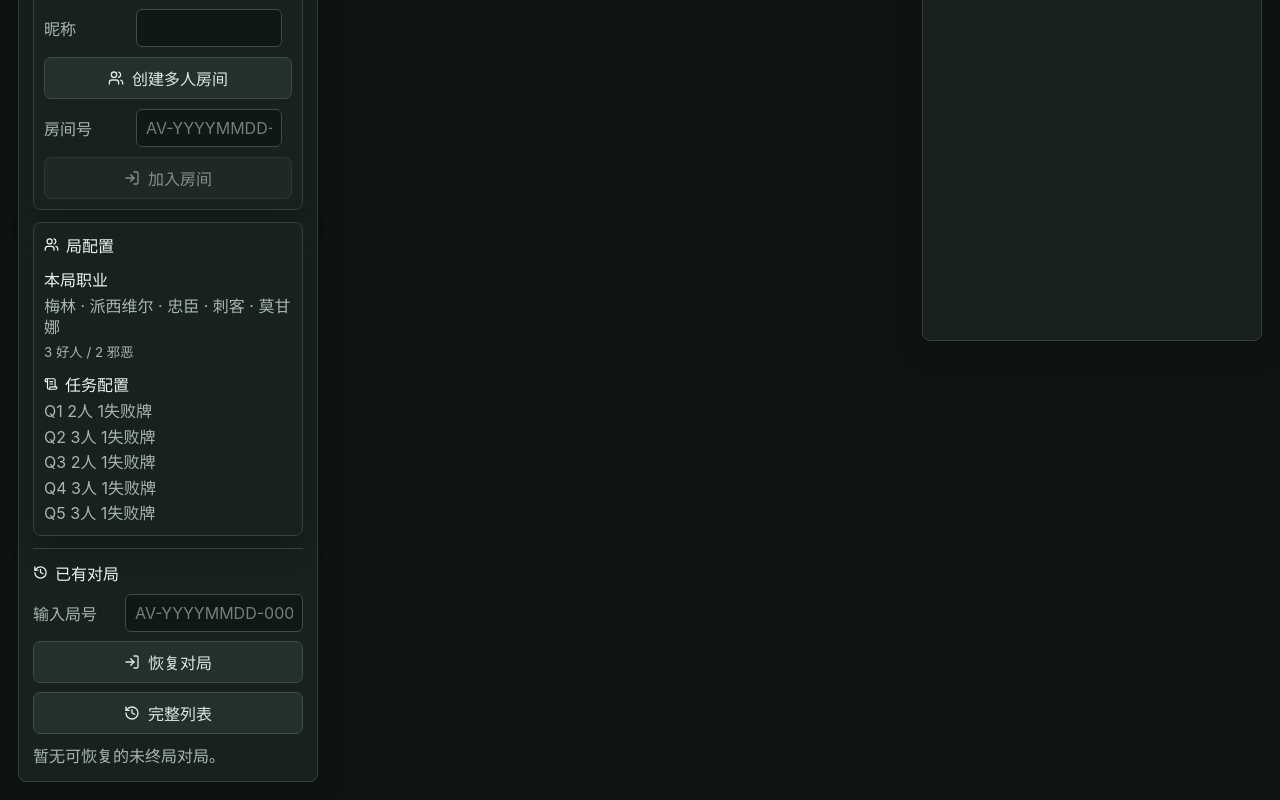
Test: Avalon app › does not restore a terminal game by manual id
The width and height of the screenshot is (1280, 800).
(page scrolled)
Type "AV-20260701-DONE" into the field labelled "输入局号" at coordinates (214, 613), box [125,594,303,632]
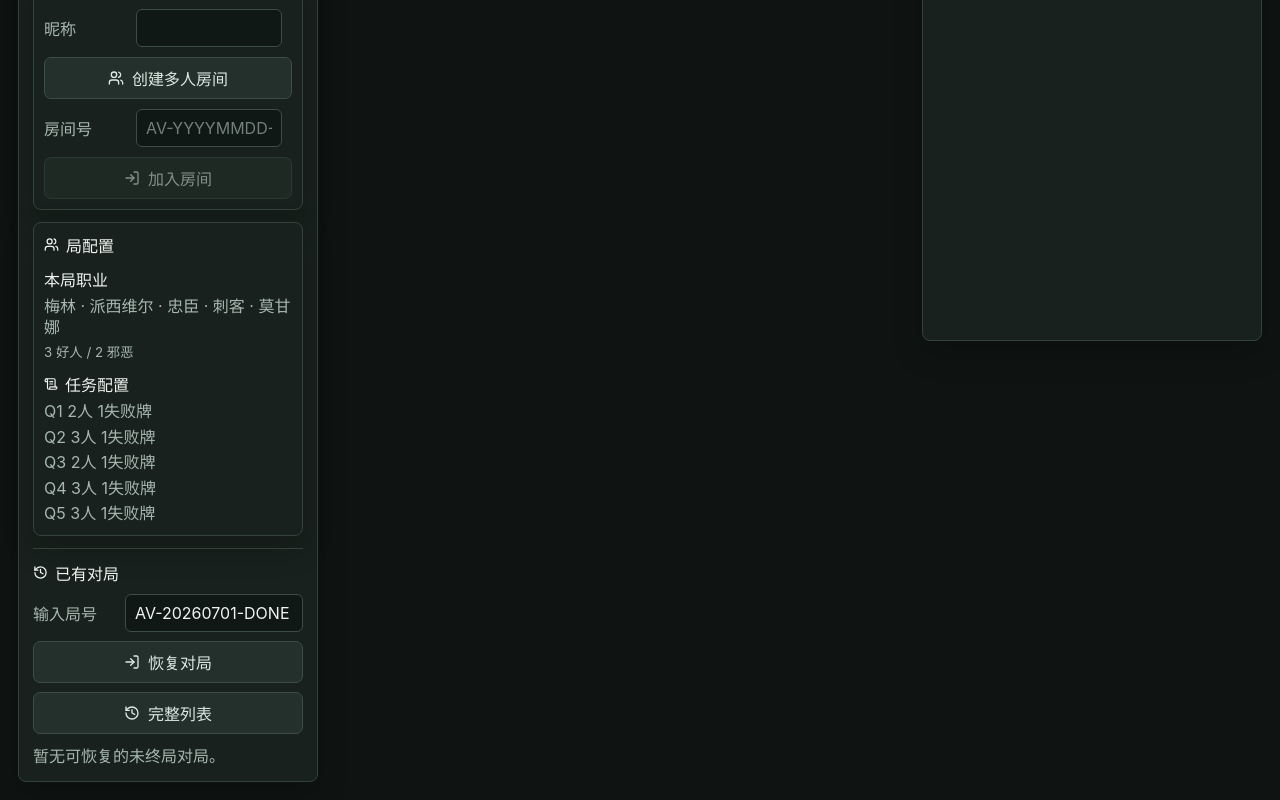
Click the button "恢复对局" at coordinates (168, 662), box [33,641,303,683]
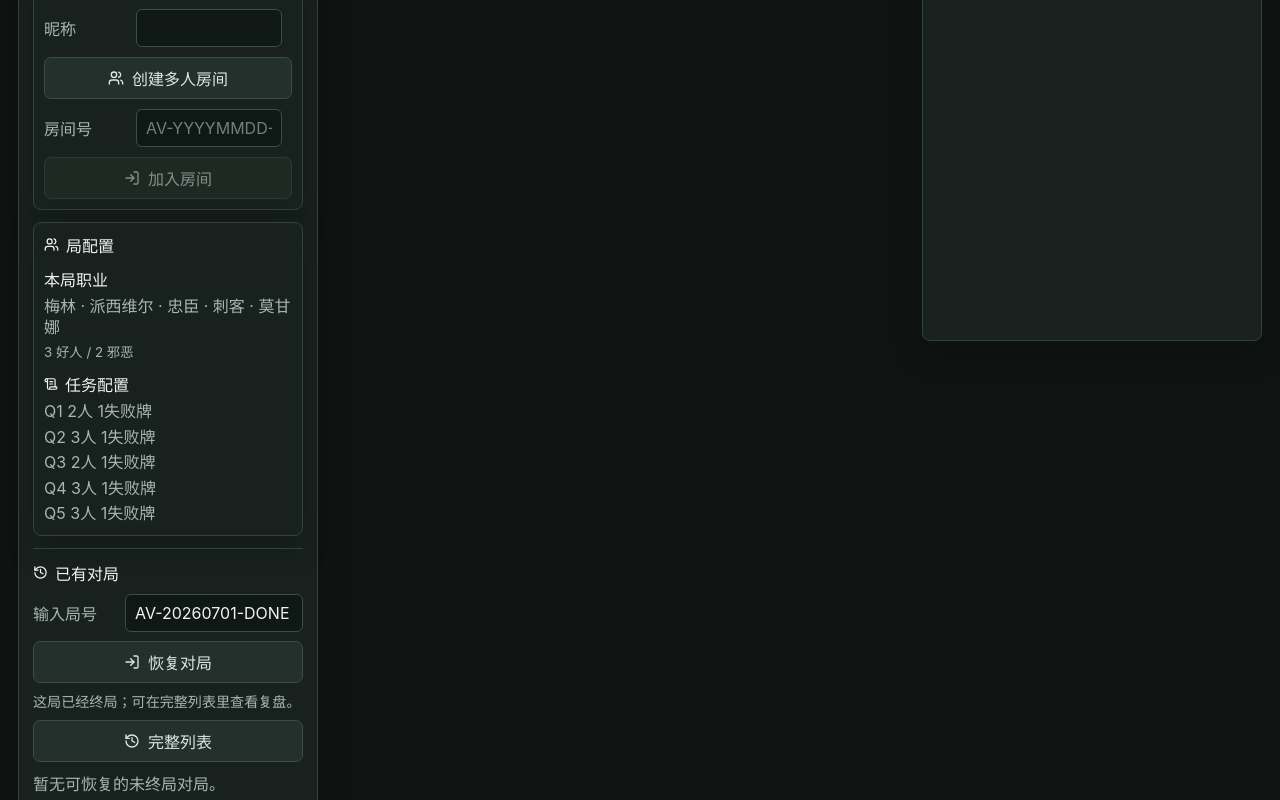
Expected: the text "这局已经终局；可在完整列表里查看复盘。" is shown, [33,692,303,711]
